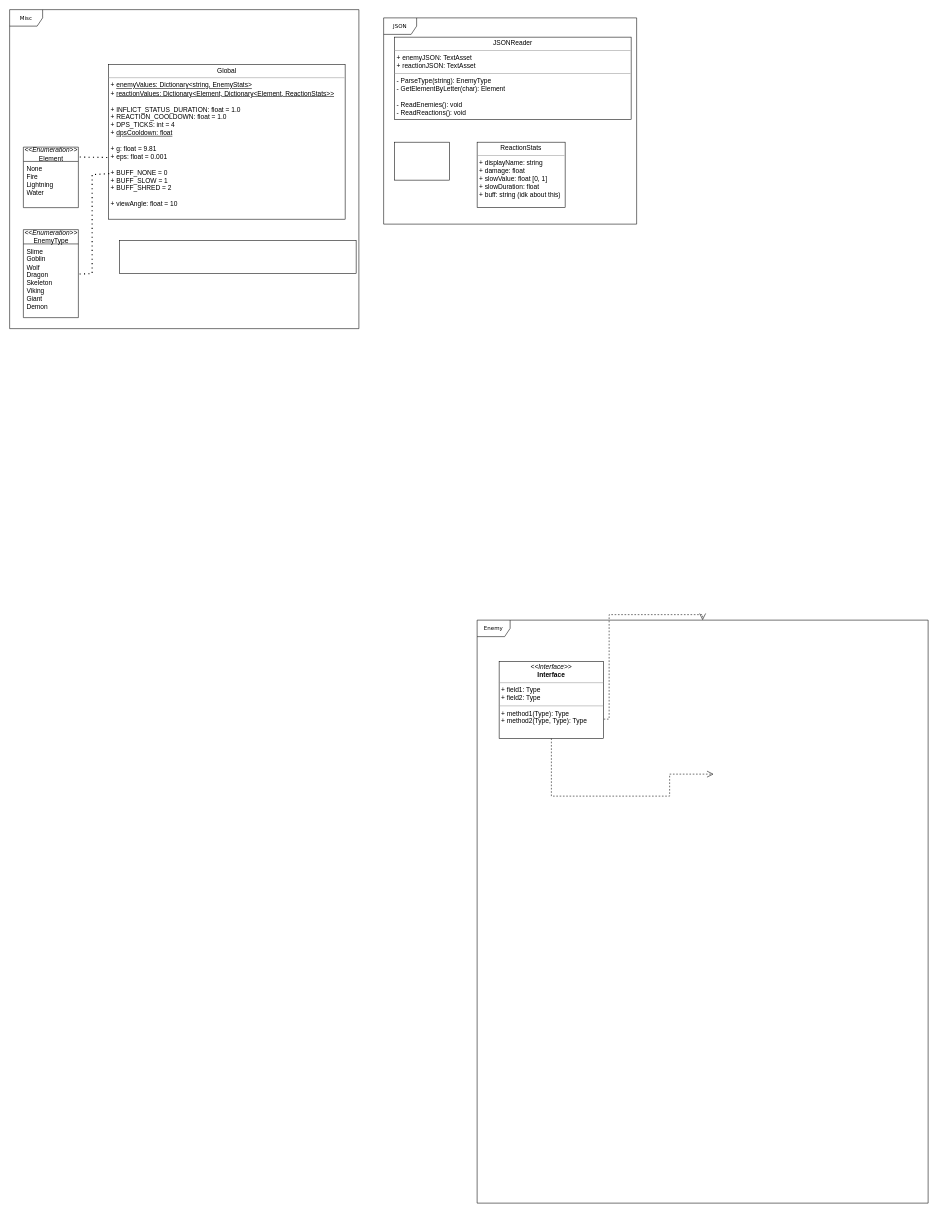
Image size: 938x1213. Some labels were removed from this diagram. Each missing label, with the centre of its shape:
"EnemyStats + health: float + speed: float" goes at pixel 422 161.
"Waypoint" goes at pixel 237 257.
